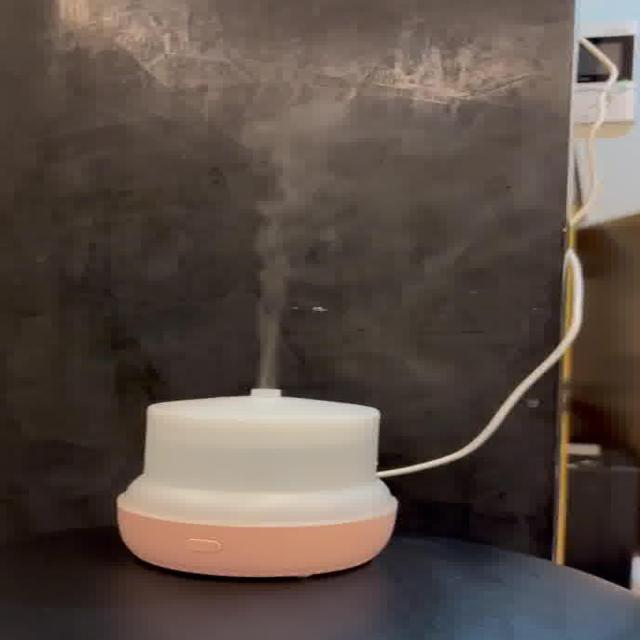fire: (238, 100, 394, 386)
